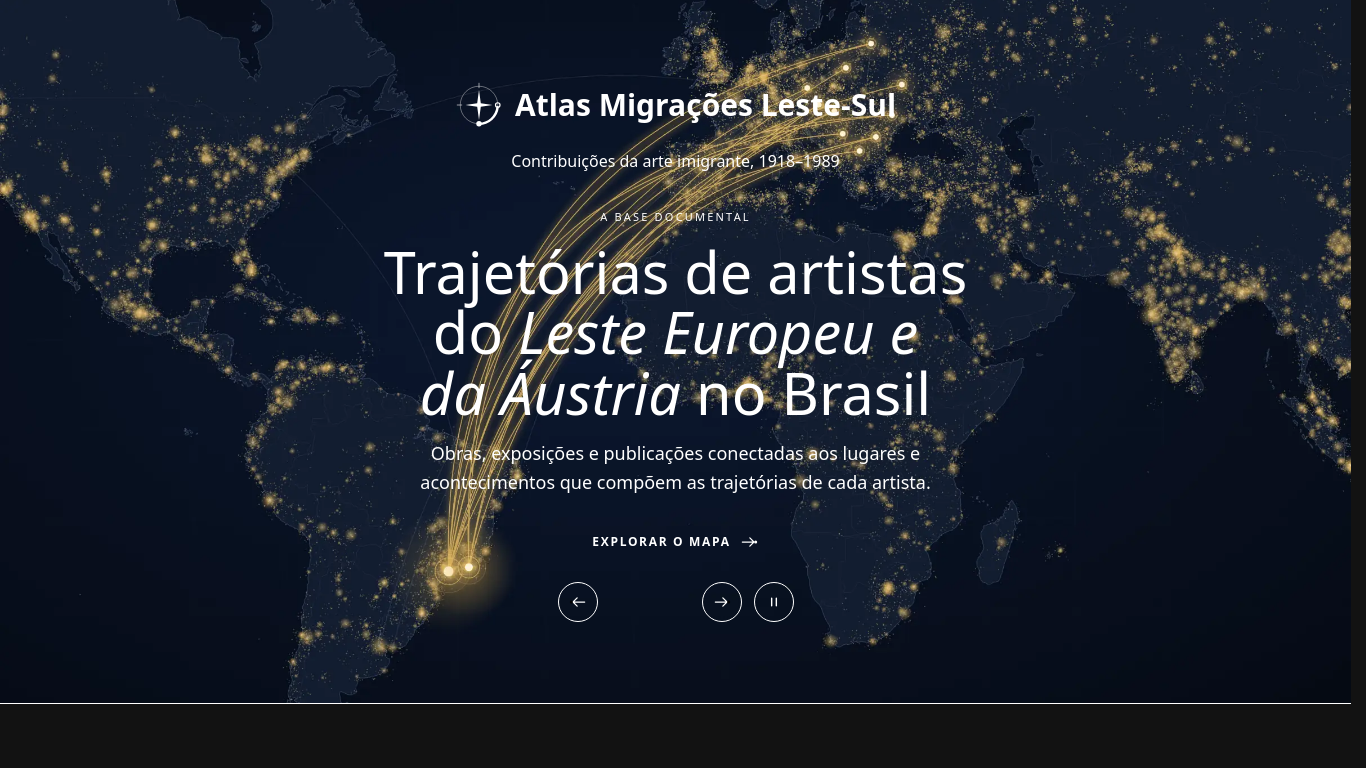
it: HeroSlider › moves with the arrows, wrapping around, and zooms into the part of the map each slide talks about
Click the button named "Próximo slide" at [722, 602], box [702,582,742,622]
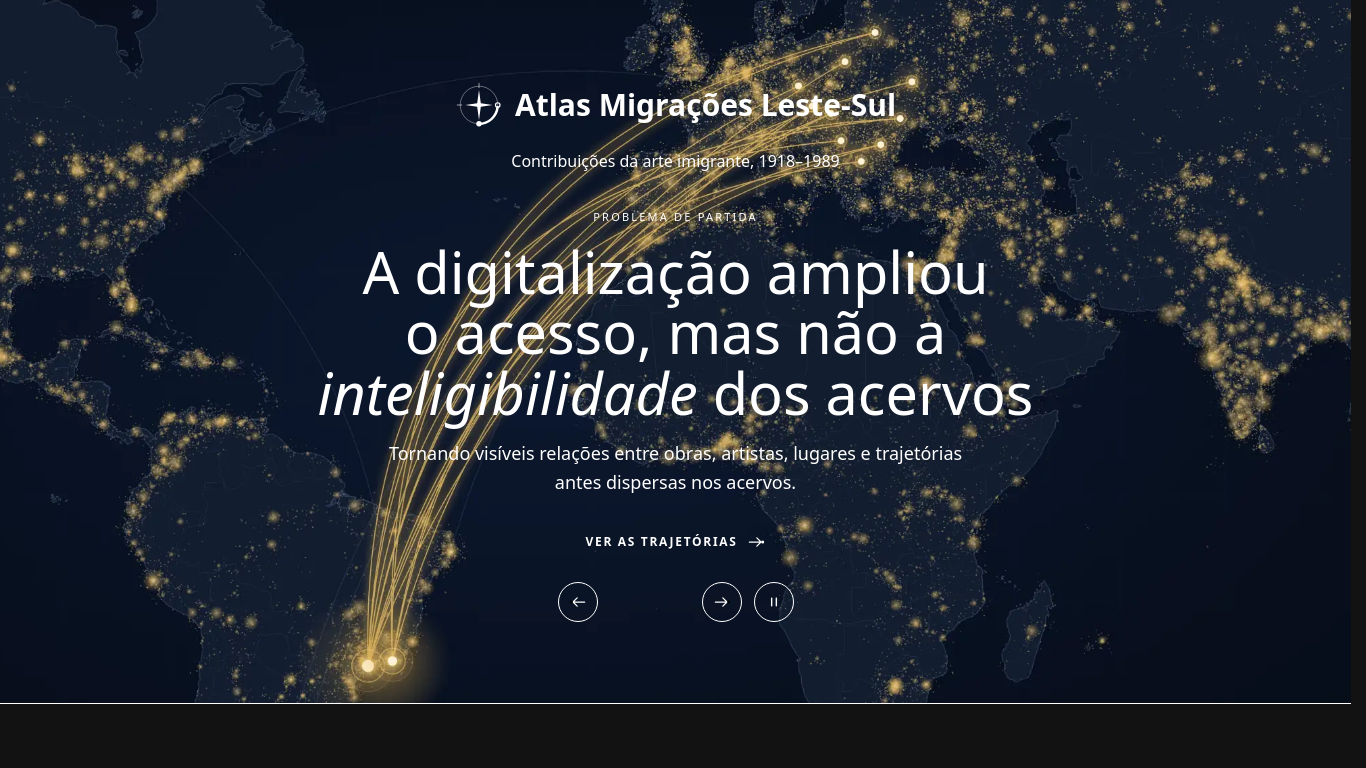
Now the 2nd heading shows "A digitalização ampliou o acesso", box [362,232,988,371]
Click the button named "Slide anterior" at [578, 602], box [558,582,598,622]
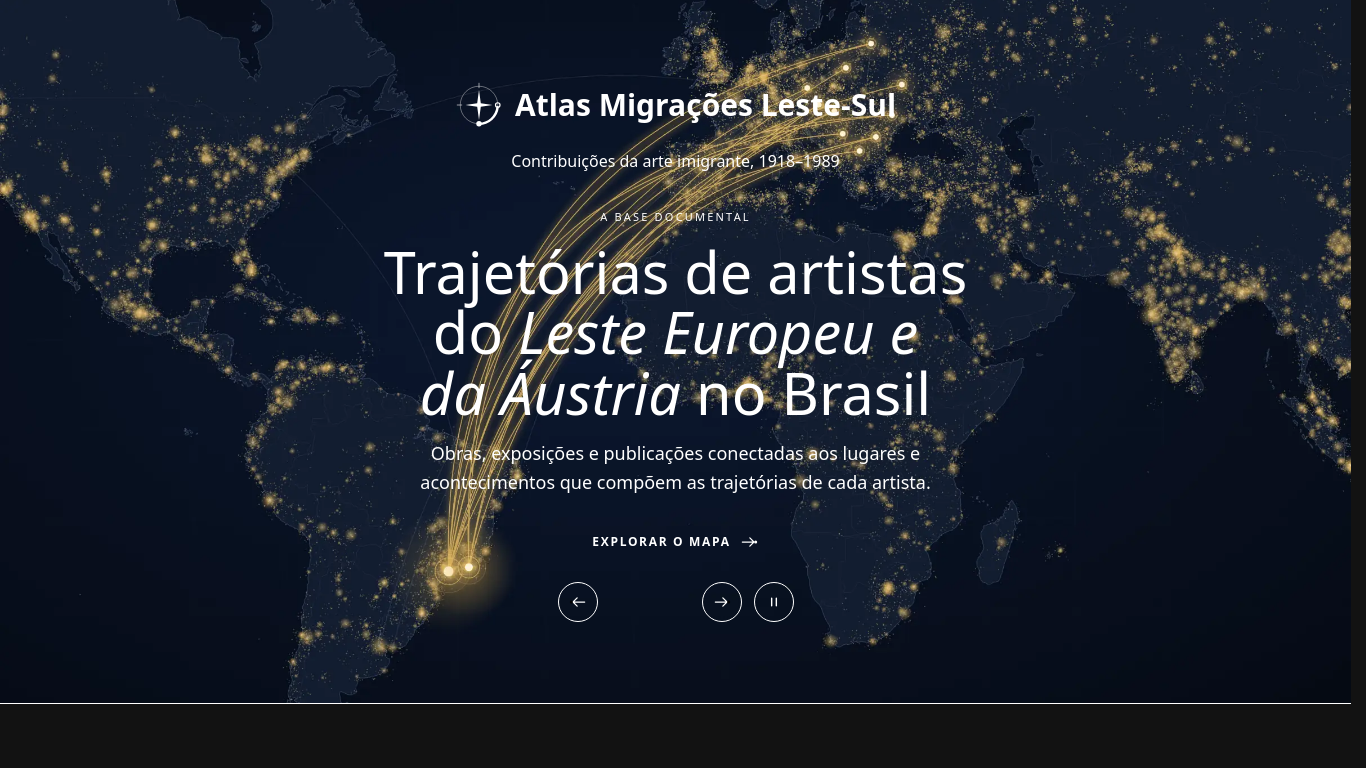
Click the button named "Slide anterior" at [578, 602], box [558,582,598,622]
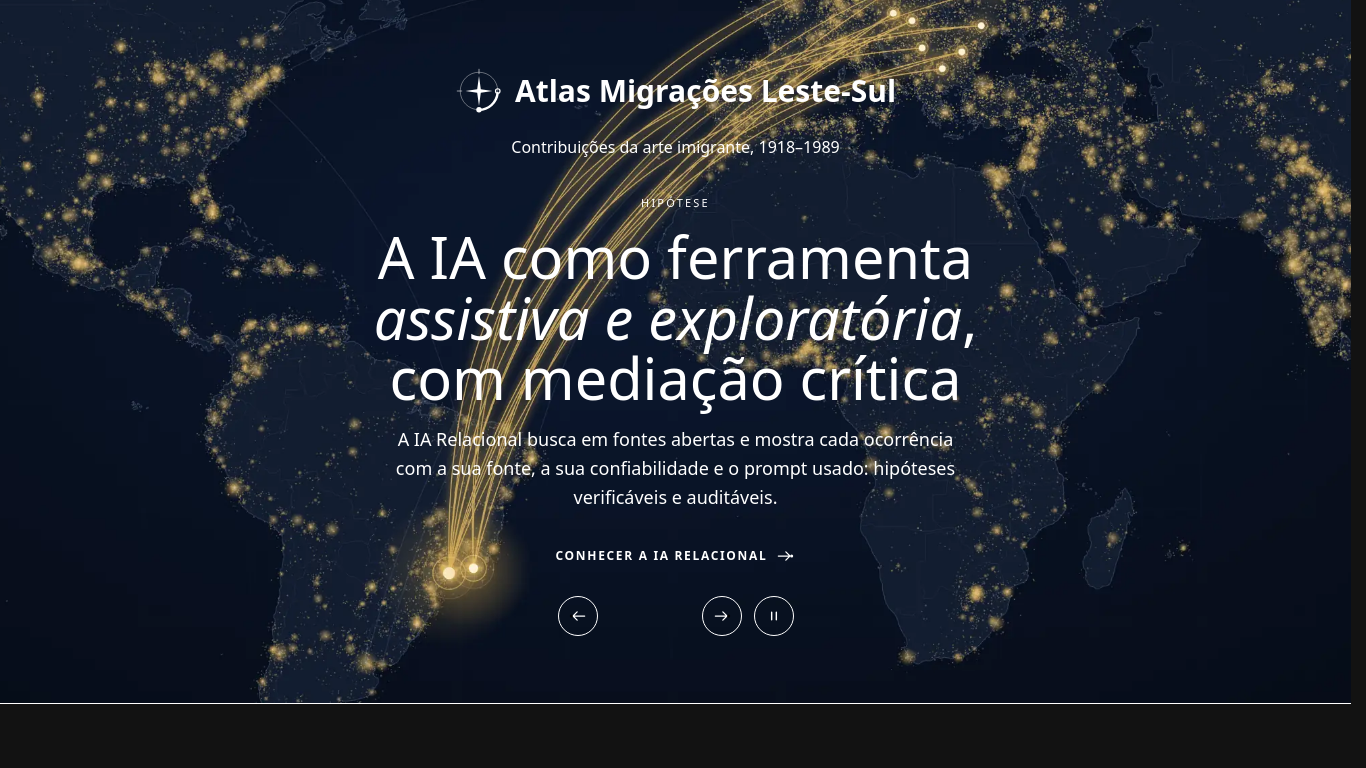
Now the heading that starts with "A IA como ferramenta" is shown, box [378,217,973,296]
Now the element named "4 de 4" is shown, box [374,195,977,566]
